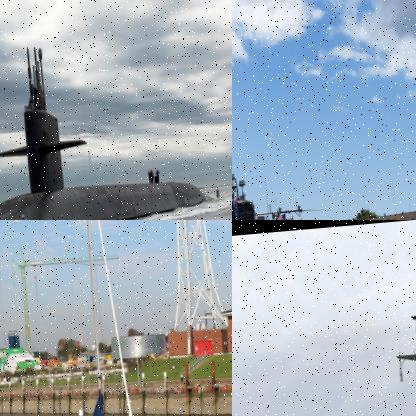Patrol Boat: (352, 220, 415, 415)
Sails Boat: (18, 220, 153, 415)
Submarine: (0, 30, 224, 219), (232, 153, 415, 219)
